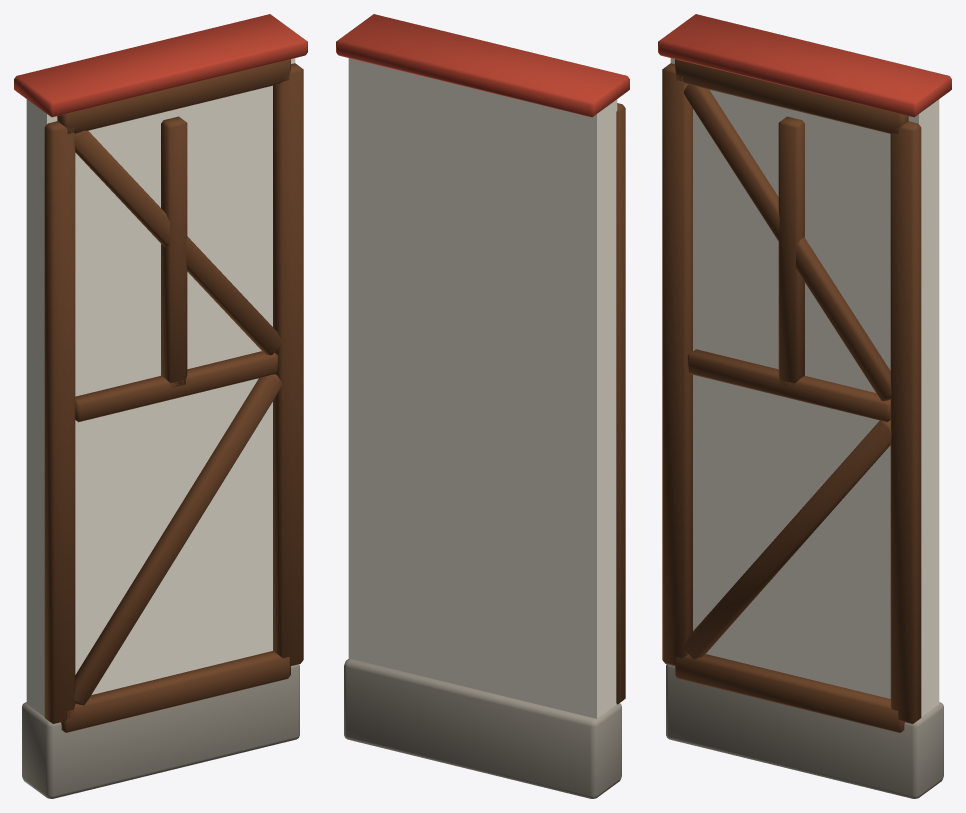
File: parede_enxaimel.glb
The picture shows the model from 3 angles, left to right: view 1: azimuth 30°, elevation 25°; view 2: azimuth 150°, elevation 25°; view 3: azimuth 330°, elevation 25°; orthographic projection.
Visible parts, largest first — view 1: Parede_Enxaimel; view 2: Parede_Enxaimel; view 3: Parede_Enxaimel.
Part boxes in pixels (<box>): Parede_Enxaimel: <box>14,14,307,798</box>; Parede_Enxaimel: <box>336,14,629,798</box>; Parede_Enxaimel: <box>658,14,951,798</box>.
Bounding box in the file's own units: 1.02 × 2.65 × 0.26.
